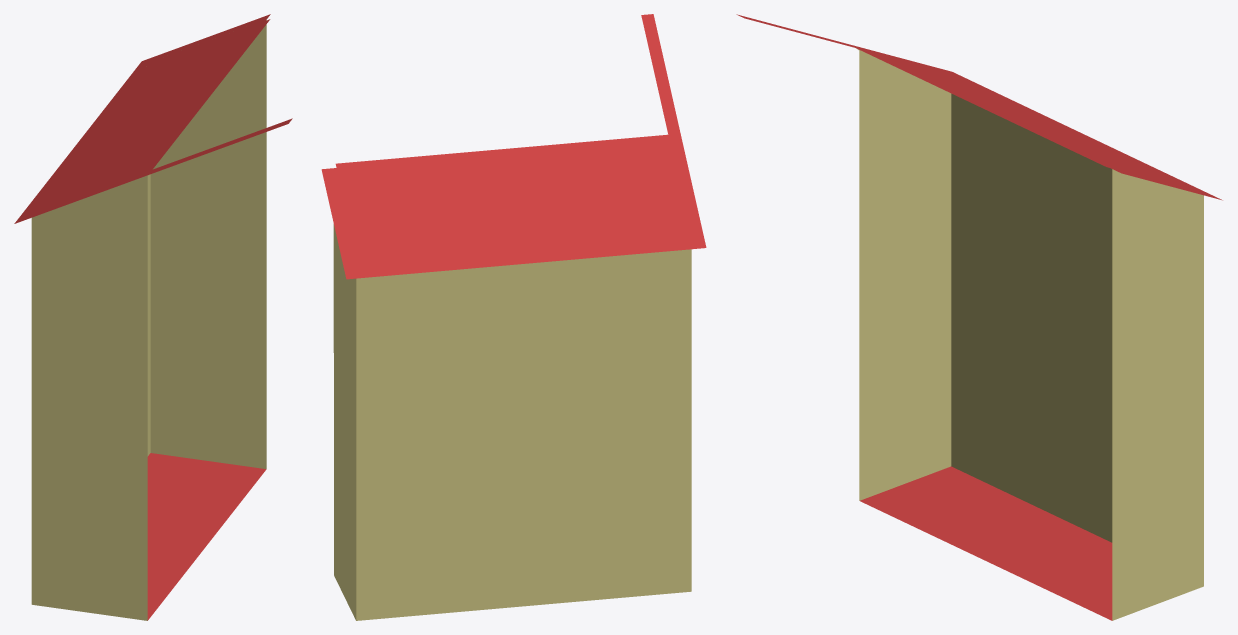
3 renders of one model, left to right at view 1: azimuth 30°, elevation 25°; view 2: azimuth 150°, elevation 25°; view 3: azimuth 270°, elevation 25°, orthographic. The views are drawn at different scales.
Bounding box in the file's own units: 7.09 × 8.75 × 10.39.
